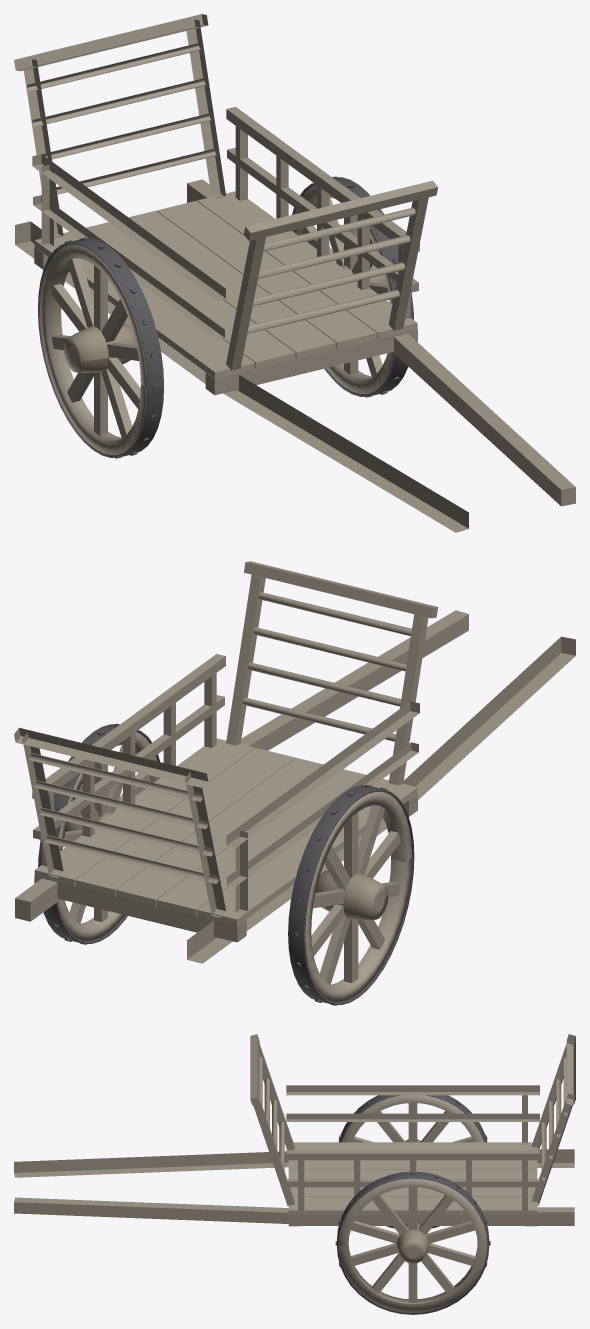
File: cart-1300.glb
The picture shows the model from 3 angles, top to bottom: view 1: azimuth 30°, elevation 25°; view 2: azimuth 150°, elevation 25°; view 3: azimuth 270°, elevation 25°; orthographic projection. The views are drawn at different scales.
Visible parts, largest first — view 1: Body-mesh, Wheel_L-mesh, Wheel_R-mesh; view 2: Body-mesh, Wheel_L-mesh, Wheel_R-mesh; view 3: Body-mesh, Wheel_R-mesh, Wheel_L-mesh.
Part boxes in pixels (box(x1,y1,x2,y2)): Body-mesh: box(14, 14, 575, 532); Wheel_L-mesh: box(38, 237, 164, 458); Wheel_R-mesh: box(292, 176, 413, 397); Body-mesh: box(14, 561, 575, 963); Wheel_L-mesh: box(288, 785, 414, 1005); Wheel_R-mesh: box(38, 723, 159, 944); Body-mesh: box(14, 1034, 575, 1257); Wheel_R-mesh: box(335, 1171, 490, 1314); Wheel_L-mesh: box(338, 1095, 487, 1228).
Size of the model in its own units: 1.96 by 1.83 by 4.52.
